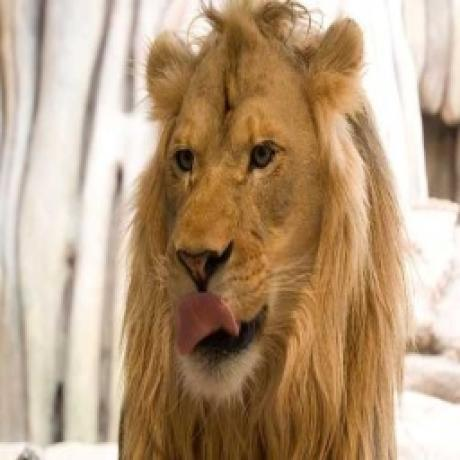Lion: (115, 0, 412, 460)
